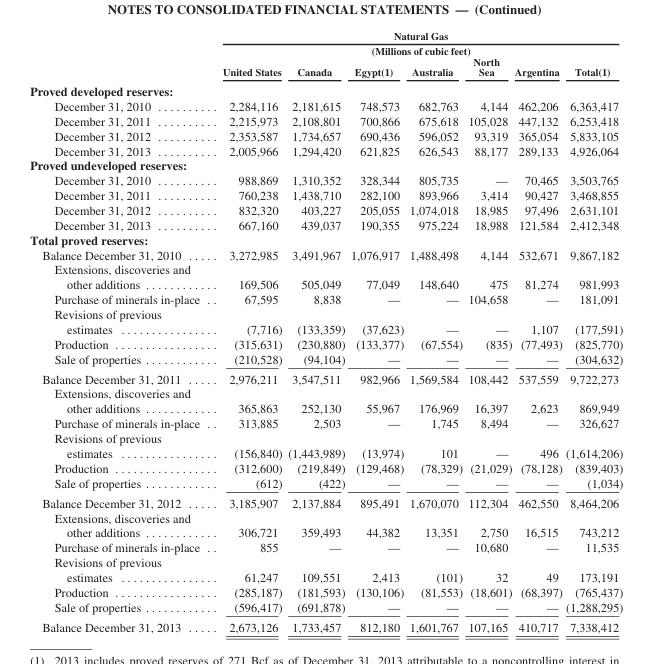table: (29, 29, 622, 633)
table column: (29, 29, 210, 633), (210, 29, 284, 633), (284, 29, 347, 633), (347, 29, 406, 633), (563, 29, 622, 633), (406, 29, 464, 633), (512, 29, 563, 633), (464, 29, 512, 633)
table column header: (29, 29, 622, 80)
table projected row header: (29, 80, 622, 98), (29, 157, 622, 172), (29, 231, 622, 246)
table row: (29, 261, 622, 291), (29, 306, 622, 336), (29, 385, 622, 415), (29, 430, 622, 460), (29, 509, 622, 539), (29, 554, 622, 584), (29, 29, 622, 55), (29, 55, 622, 80), (29, 80, 622, 98), (29, 350, 622, 368), (29, 474, 622, 492), (29, 368, 622, 385), (29, 492, 622, 509), (29, 599, 622, 616), (29, 616, 622, 633), (29, 98, 622, 113), (29, 113, 622, 128), (29, 142, 622, 157), (29, 157, 622, 172), (29, 172, 622, 187), (29, 187, 622, 202), (29, 202, 622, 217), (29, 231, 622, 246), (29, 246, 622, 261), (29, 291, 622, 306), (29, 415, 622, 430), (29, 539, 622, 554), (29, 584, 622, 599), (29, 128, 622, 142), (29, 217, 622, 231), (29, 336, 622, 350), (29, 460, 622, 474)
table spanning cell: (210, 29, 622, 55)
